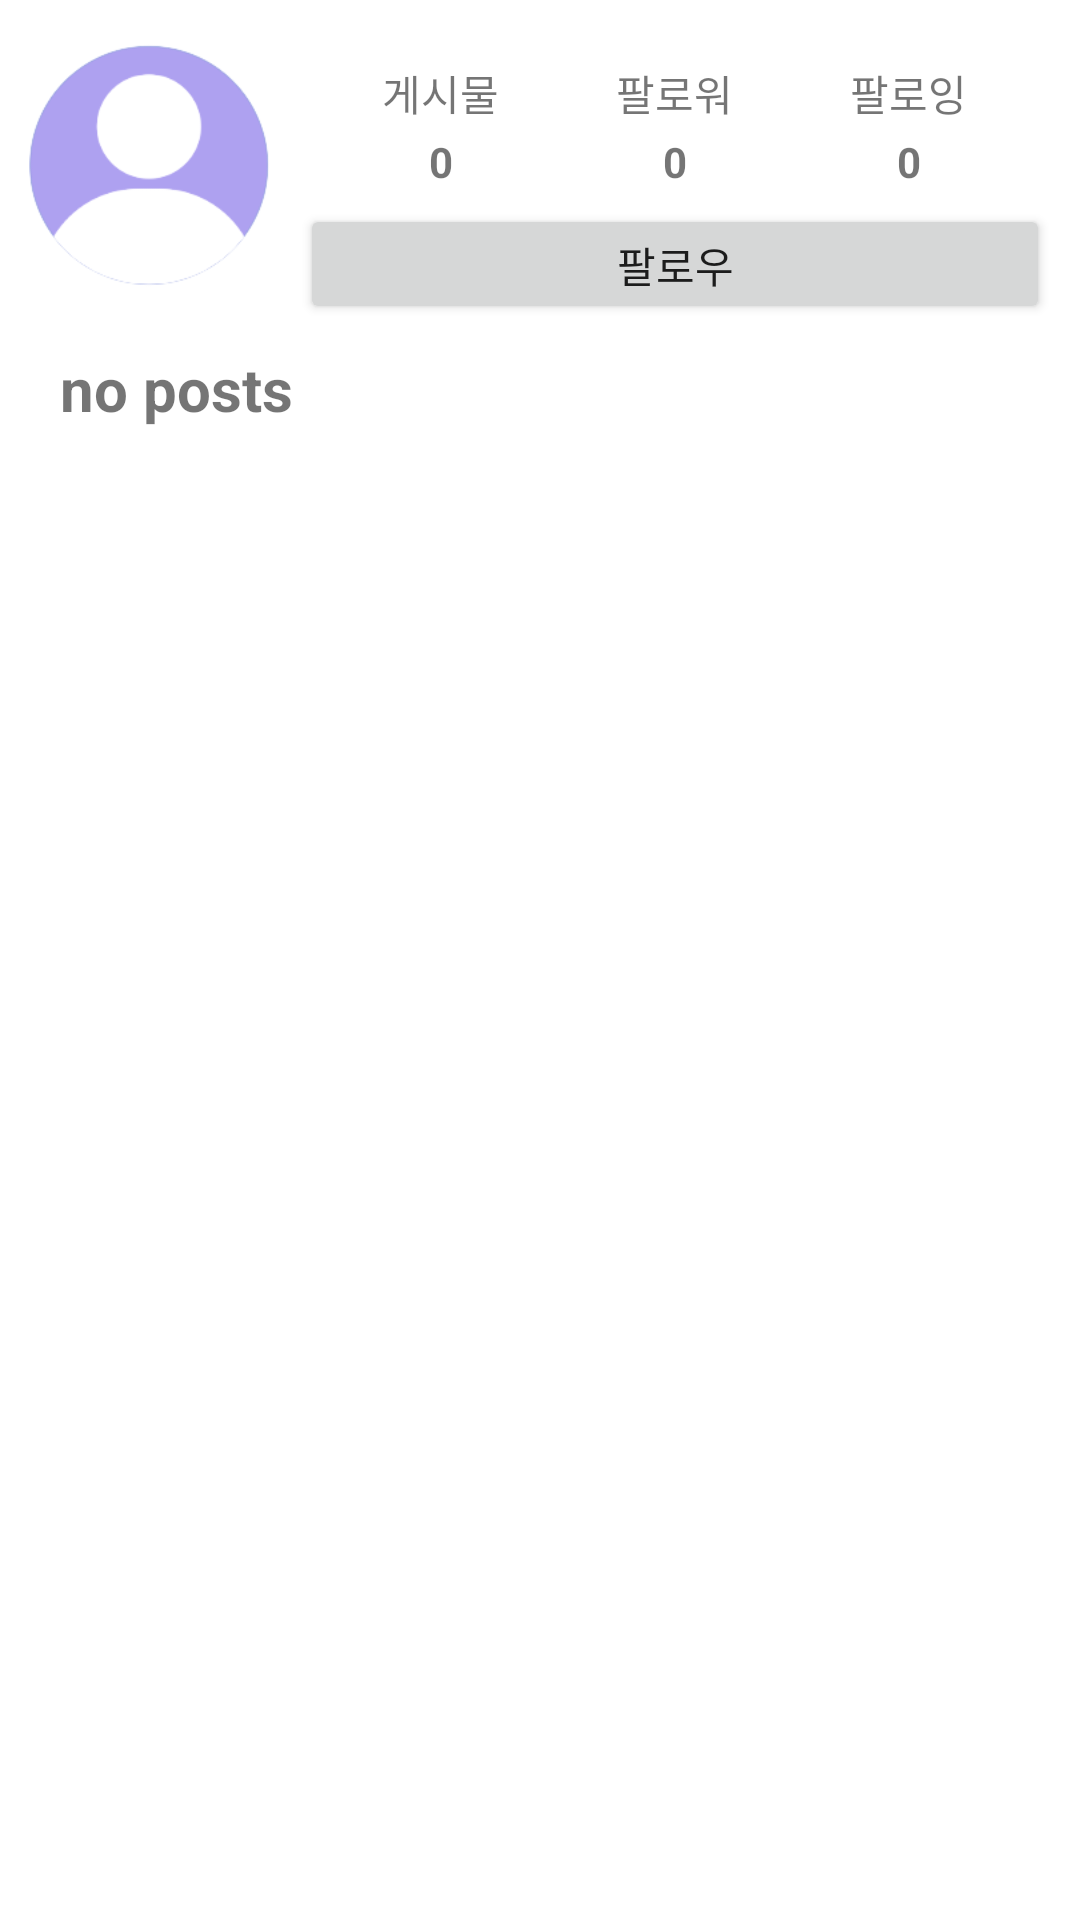

Where icons sit on this 1080w x 1920h app screen, as [left=x1, top=y1, right=x2, bottom=y2]:
Profile: [left=29, top=46, right=268, bottom=285]
